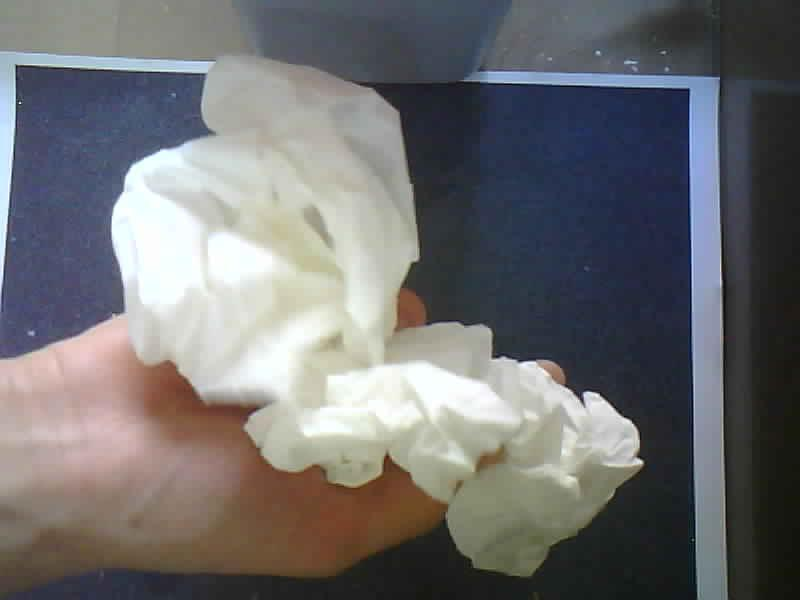paper: (112, 58, 642, 575)
